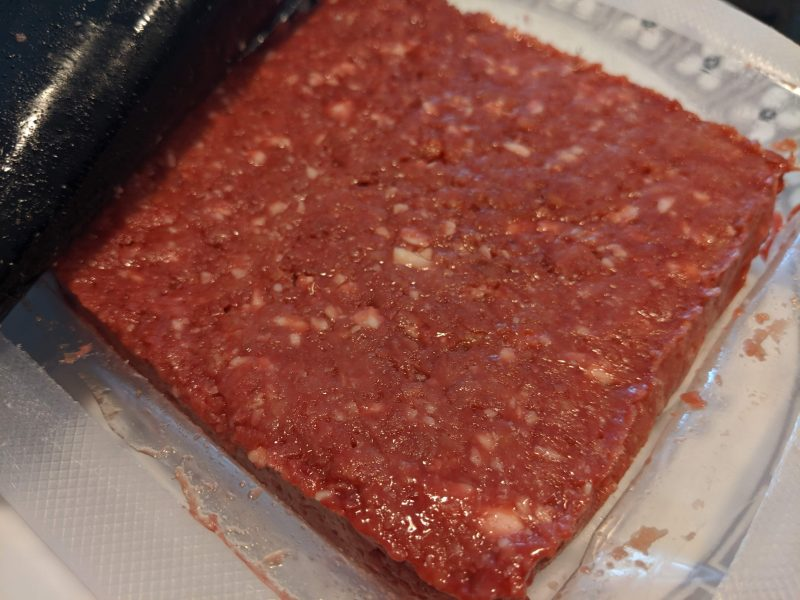ground_beef: (201, 78, 640, 468)
